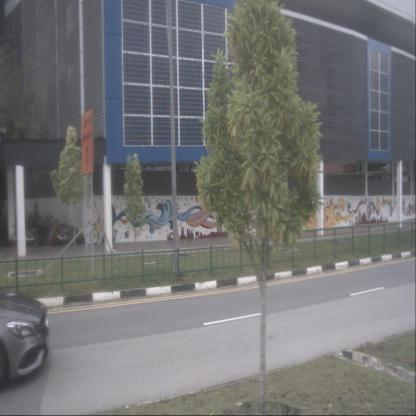vehicle-bicycle: (45, 214, 73, 247), (10, 221, 39, 249), (90, 215, 116, 244)
vehicle-car: (0, 287, 50, 393)
